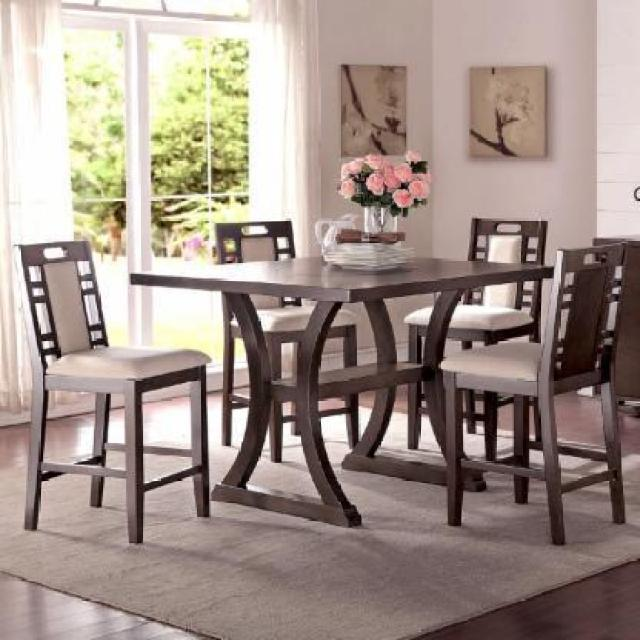tables: (130, 254, 556, 528)
